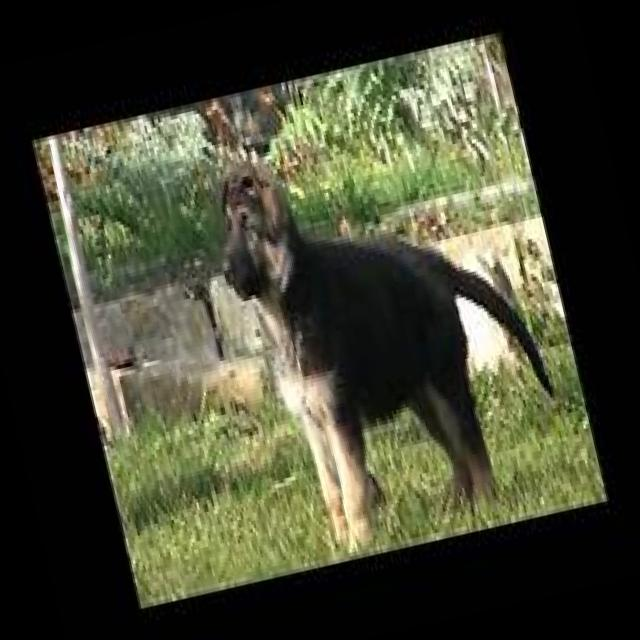animal: (162, 54, 588, 584)
